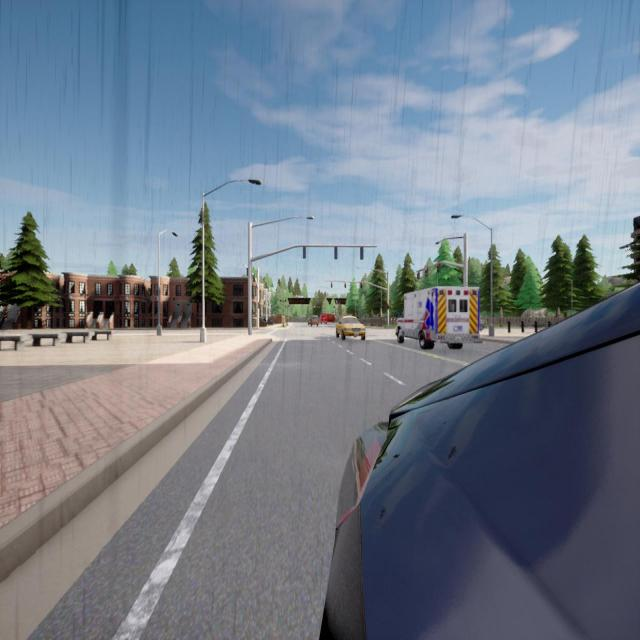Vehicle: (323, 284, 640, 638), (396, 286, 479, 348), (336, 316, 365, 340), (320, 314, 335, 323), (311, 316, 319, 326)
traffic_light: (334, 247, 338, 259), (302, 247, 306, 258), (361, 247, 364, 259), (437, 263, 440, 272), (425, 268, 428, 276), (417, 271, 419, 279), (387, 303, 389, 309), (344, 282, 346, 288), (360, 282, 362, 288), (331, 282, 332, 288)
